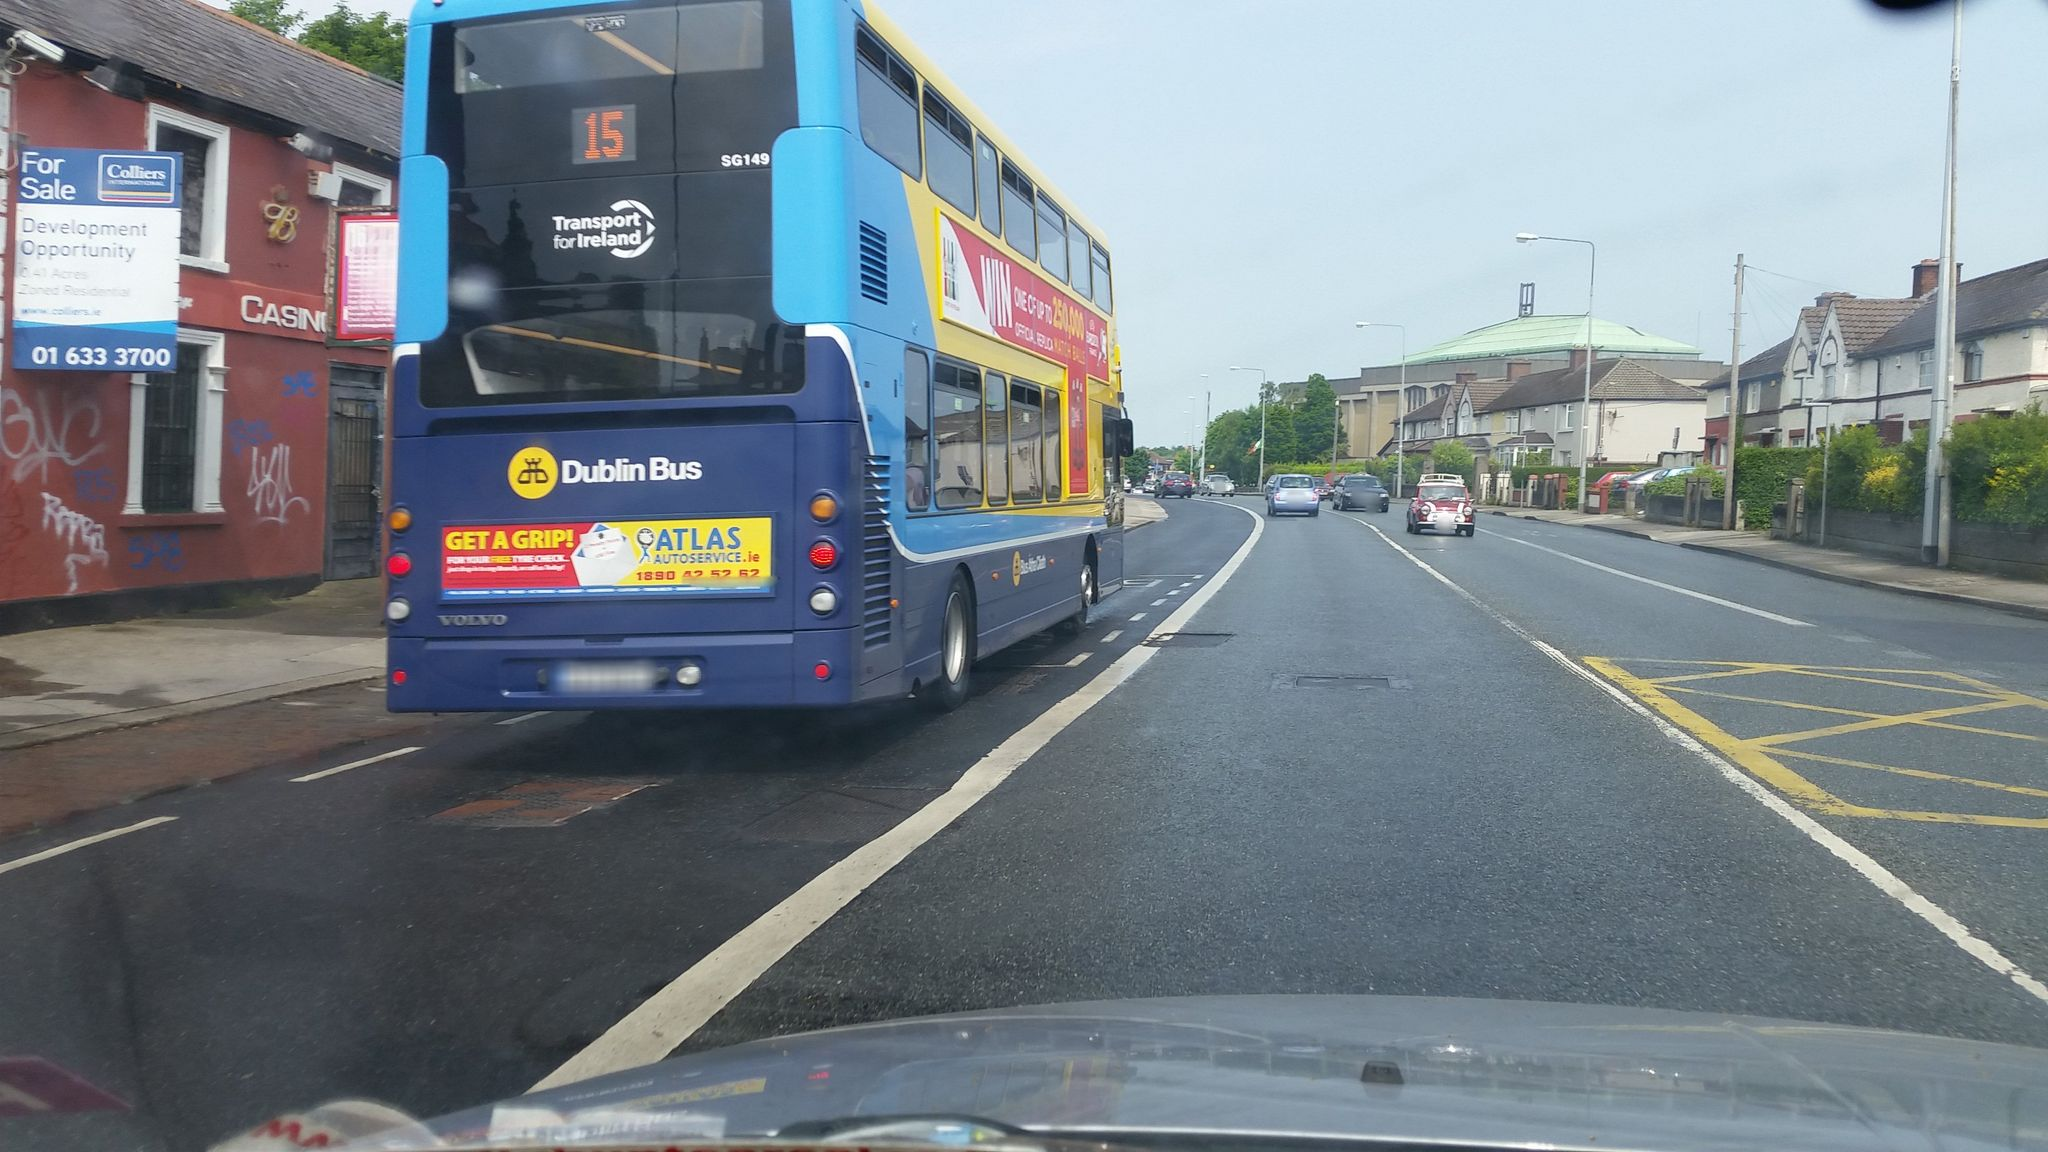property sign: (17, 135, 188, 409)
